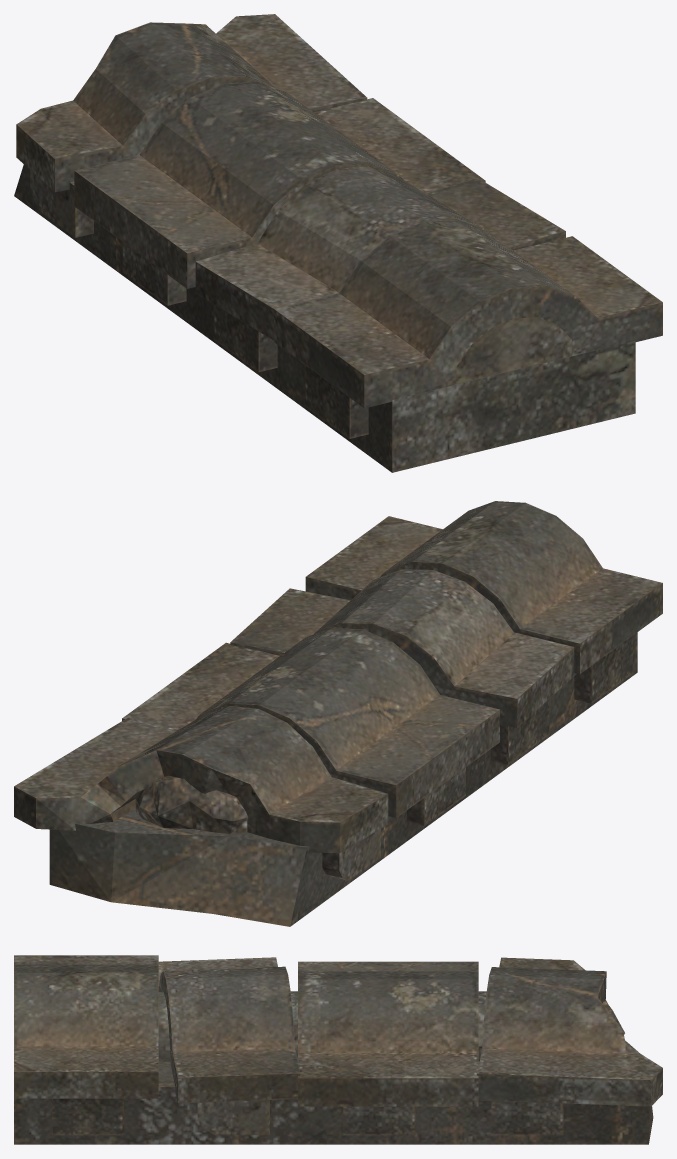
Rendered from bg_lut_lutomb_border02b_sm_old.FBX.
The picture shows the model from 3 angles, top to bottom: view 1: azimuth 30°, elevation 25°; view 2: azimuth 150°, elevation 25°; view 3: azimuth 270°, elevation 25°; orthographic projection. The views are drawn at different scales.
Parts seen in each view (by area): view 1: bg_lut_lutomb_border02b_sm_old; view 2: bg_lut_lutomb_border02b_sm_old; view 3: bg_lut_lutomb_border02b_sm_old.
Boxes of the visible parts, box(x1,y1,x2,y2) form: bg_lut_lutomb_border02b_sm_old: box(14, 14, 662, 472); bg_lut_lutomb_border02b_sm_old: box(14, 501, 662, 926); bg_lut_lutomb_border02b_sm_old: box(14, 955, 662, 1144).
Size of the model in its own units: 72.24 by 34.15 by 162.
